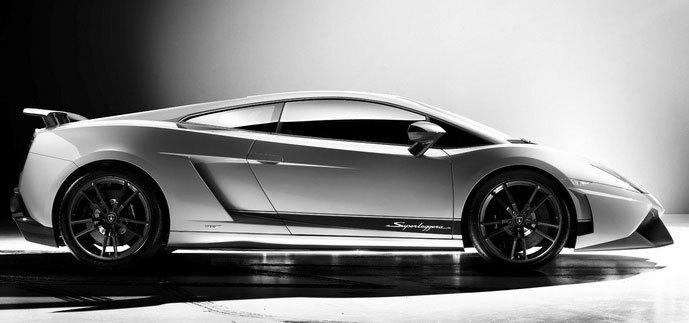car: (10, 92, 677, 276)
